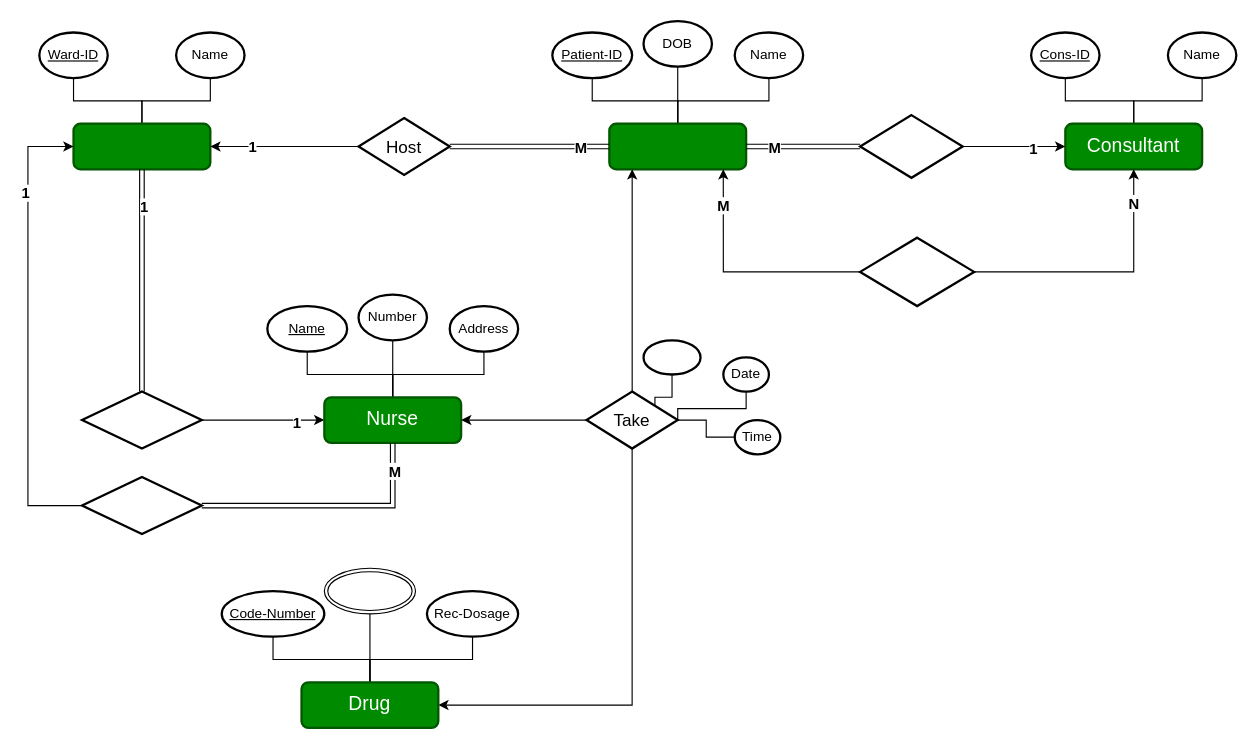
Some shapes in this 1257 by 748 pixel diagram are drawn without their labels. Each missing label, with the box of its shape:
Assigned: (858, 113, 963, 178)
Brand: (323, 567, 416, 614)
Dosage: (642, 339, 701, 375)
Examined: (858, 236, 975, 307)
Patient: (608, 122, 747, 170)
Serve: (80, 475, 202, 535)
Supervise: (80, 390, 202, 449)
Ward: (72, 122, 211, 170)
